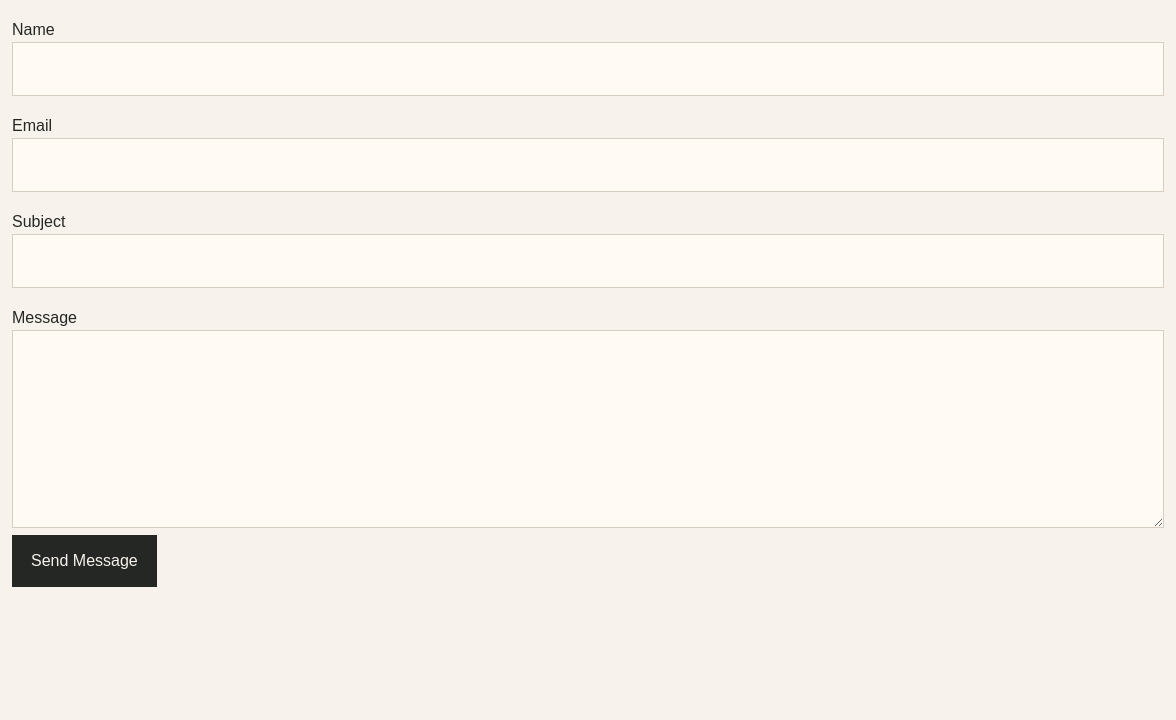
Scenario: contact form error mapping › does not claim fields are highlighted when the server supplies none
Step 1. Type "Ada Lovelace" into the field labelled "Name" → (588, 69), box [12, 42, 1164, 96]
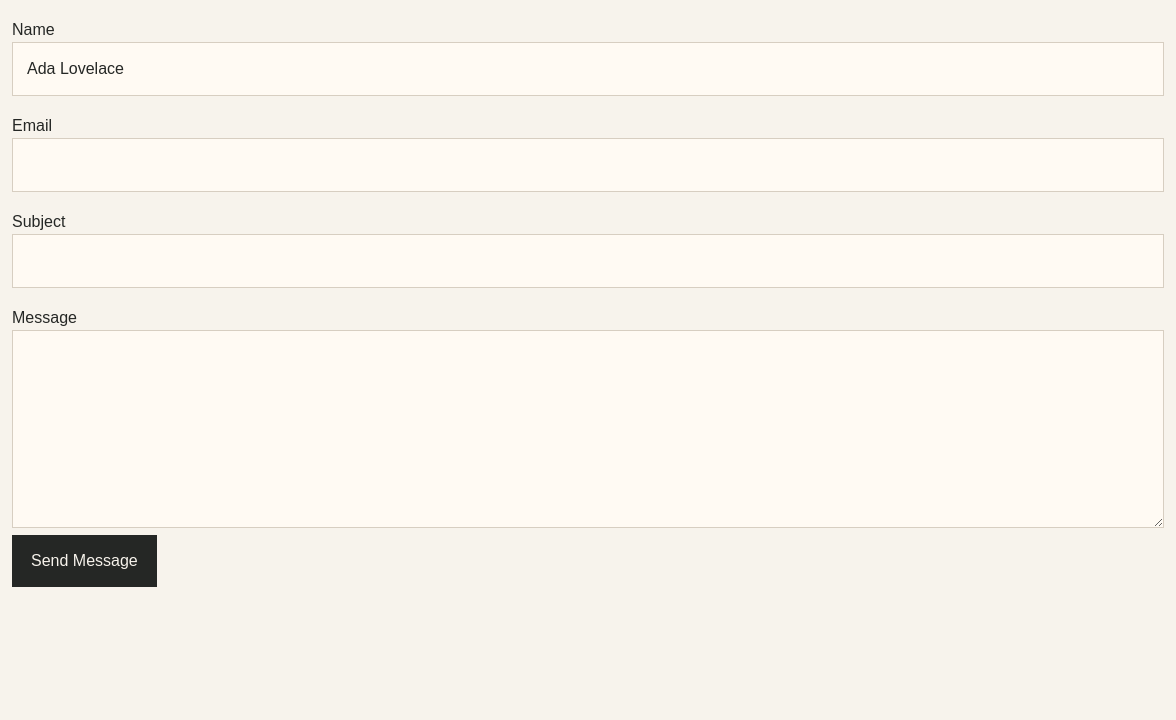
Step 2. Type "ada@example.com" into the field labelled "Email" → (588, 165), box [12, 138, 1164, 192]
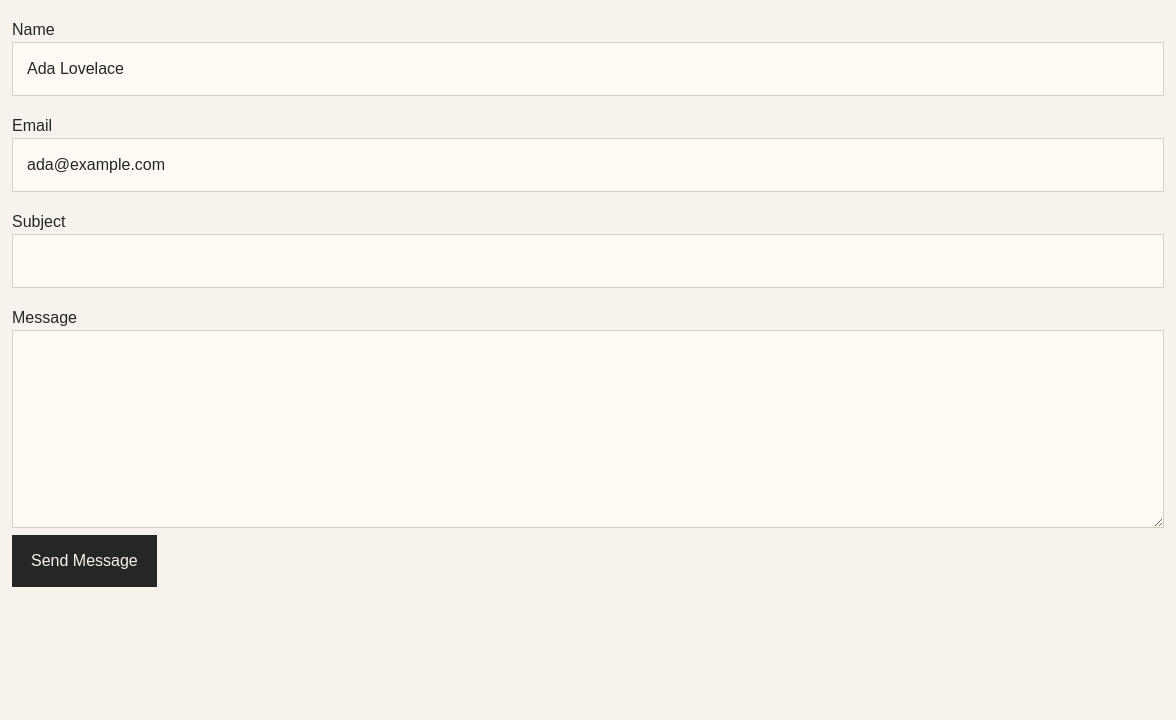
Step 3. Type "Speaking inquiry" into the field labelled "Subject" → (588, 261), box [12, 234, 1164, 288]
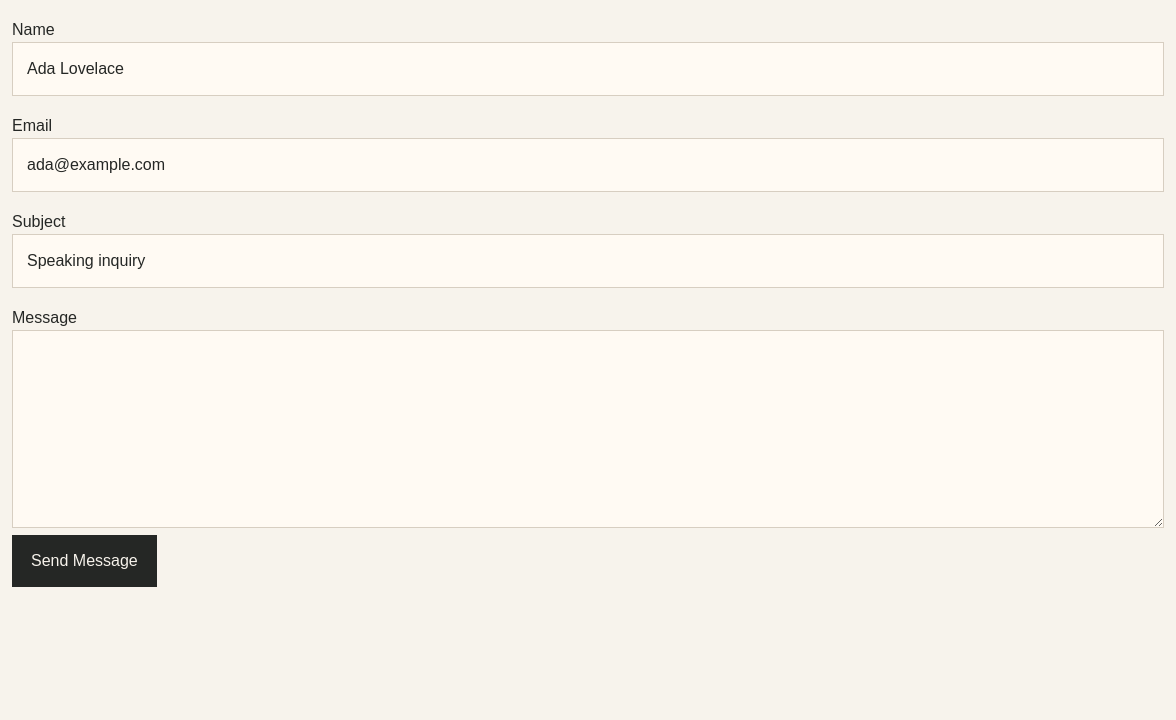
Step 4. Type "Could we discuss a conference session?" into the text box labelled "Message" → (588, 429), box [12, 330, 1164, 528]
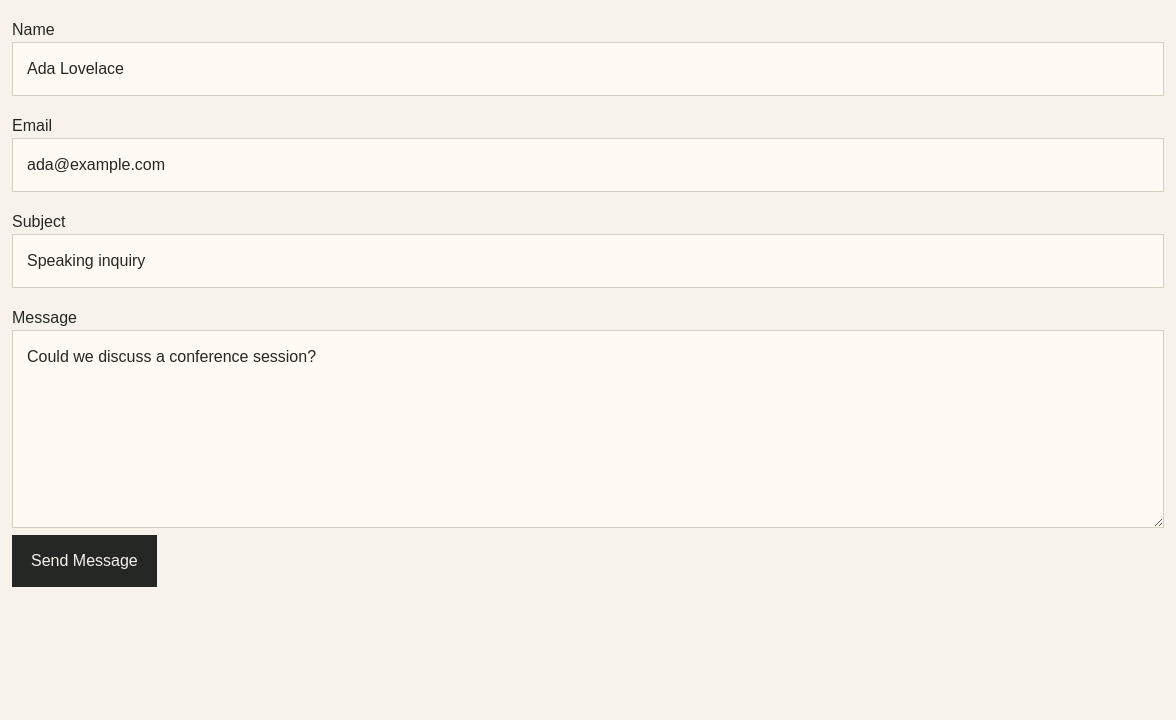
Step 5. Submit the form "Send Message"
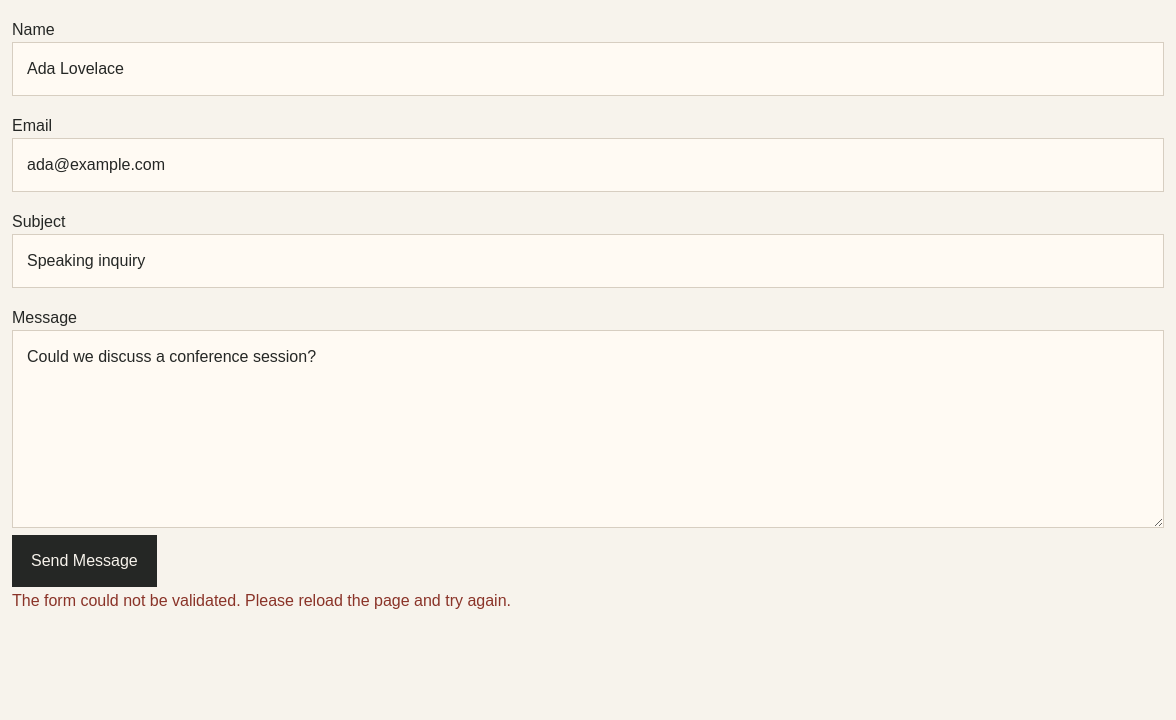
Now the text "The form could not be validated. Please reload the page and try again." is shown, box [12, 592, 511, 609]
